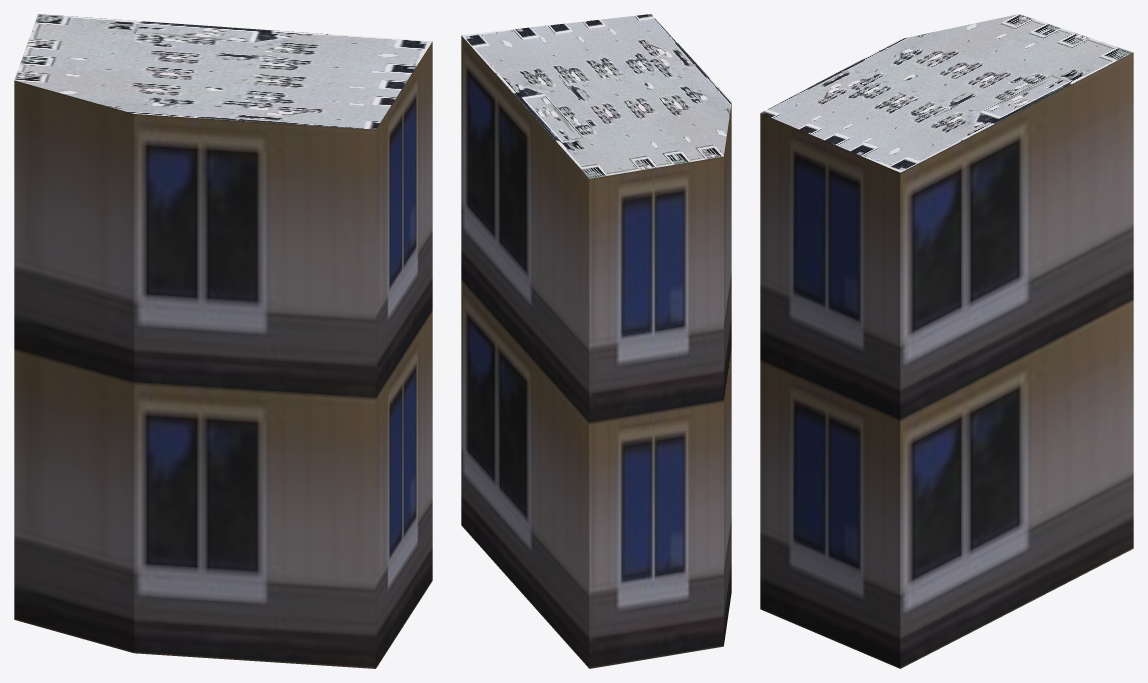
The model's file is ResTex__2983.fbx.
3 views of the same model, side by side, from view 1: azimuth 30°, elevation 25°; view 2: azimuth 150°, elevation 25°; view 3: azimuth 270°, elevation 25° (orthographic). The views are drawn at different scales.
Visible parts, largest first — view 1: CityEngineMaterial_5_m, CityEngineMaterial_2_m; view 2: CityEngineMaterial_5_m, CityEngineMaterial_2_m; view 3: CityEngineMaterial_5_m, CityEngineMaterial_2_m.
Boxes of the visible parts, bbox=[...] form: CityEngineMaterial_5_m: bbox=[14, 42, 432, 668]; CityEngineMaterial_2_m: bbox=[14, 14, 432, 129]; CityEngineMaterial_5_m: bbox=[461, 36, 731, 668]; CityEngineMaterial_2_m: bbox=[461, 14, 731, 178]; CityEngineMaterial_5_m: bbox=[760, 52, 1133, 668]; CityEngineMaterial_2_m: bbox=[760, 14, 1133, 172].
Size of the model in its own units: 4.12 by 6 by 4.09.
Materials: 2 (2 with a texture image).
